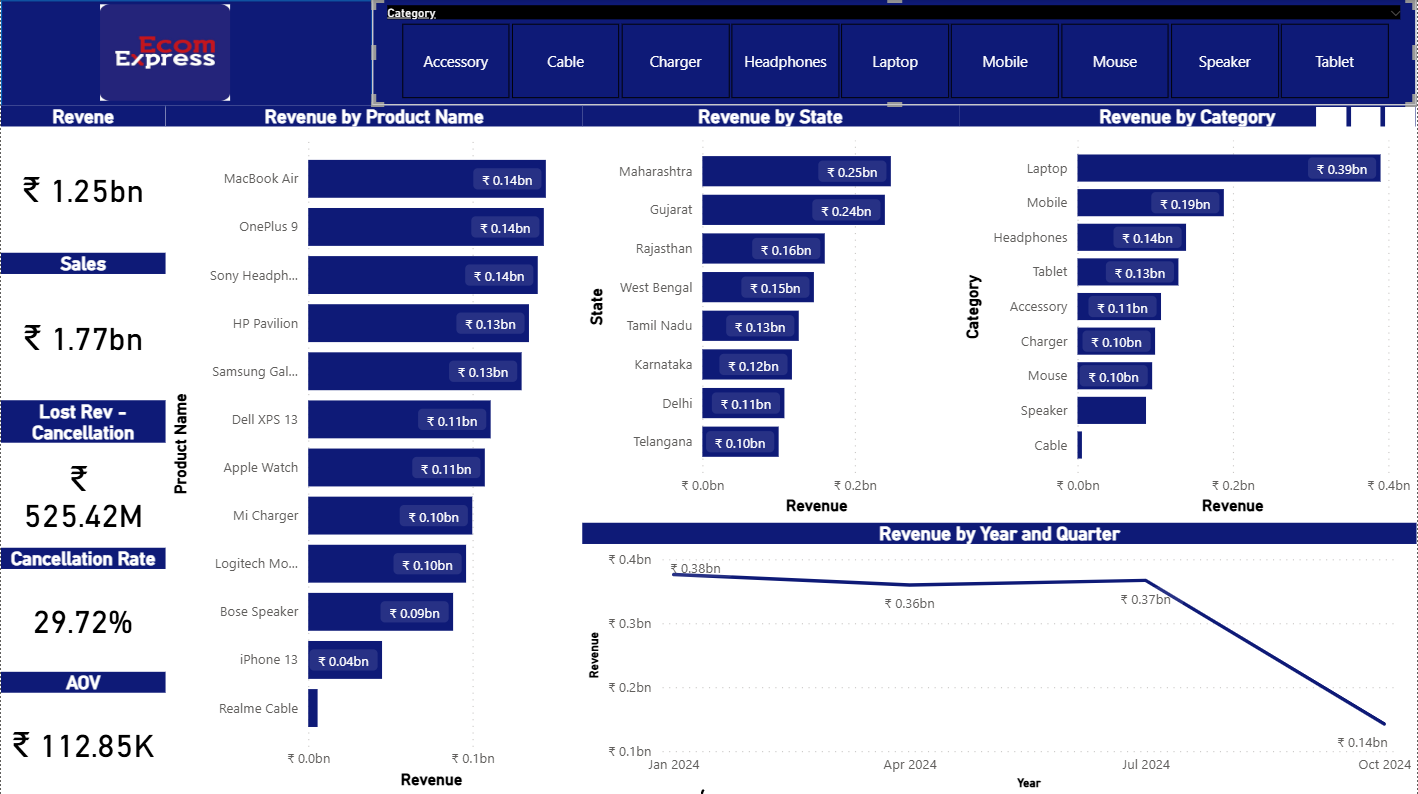

The dashboard page shown, as its layout file describes it:
{"tool":"powerbi","page":{"name":"Page 1","canvas":[1280,720],"ordinal":0},"visuals":[{"type":"shape","box":[0,1.2,336,96.5],"z":0},{"type":"barChart","fields":{"Y":["table.Revenue"],"Category":["Products.Product Name"]},"box":[148.8,96.5,376.7,623.1],"z":1000},{"type":"barChart","fields":{"Y":["table.Revenue"],"Category":["Products.Category"]},"box":[866.1,96.5,413.9,375.5],"z":2000},{"type":"lineChart","fields":{"Y":["table.Revenue"],"Category":["Orders.Date and time of purchase.Variation.Date Hierarchy.Year","Orders.Date and time of purchase.Variation.Date Hierarchy.Quarter","Orders.Date and time of purchase.Variation.Date Hierarchy.Month","Orders.Date and time of purchase.Variation.Date Hierarchy.Day"]},"box":[525.5,473.2,754.5,246.5],"z":3000},{"type":"barChart","fields":{"Y":["table.Revenue"],"Category":["Customers.State"]},"box":[525.5,96.5,340.6,375.5],"z":4000},{"type":"slicer","fields":{"Values":["Products.Category"]},"box":[336,0,944,96.5],"z":5000},{"type":"card","title":"Revene","fields":{"Values":["table.Revenue"]},"box":[0,96.5,148.8,132.5],"z":6000},{"type":"card","title":"Sales","fields":{"Values":["table.sales"]},"box":[0,229,148.8,133.7],"z":7000},{"type":"card","title":"Lost Rev - Cancellation","fields":{"Values":["table.lost_revenue_cancellation"]},"box":[0,362.7,148.8,133.7],"z":8000},{"type":"card","title":"AOV","fields":{"Values":["table.AOV"]},"box":[0,608,148.8,111.6],"z":9000},{"type":"card","title":"Cancellation Rate","fields":{"Values":["table.cancellation rate"]},"box":[0,496.4,148.8,111.6],"z":10000},{"type":"image","box":[0,0,98.8,97.7],"z":10001}]}

Visuals, with their boxes on the page's 1280x720 design canvas (x1, y1, x2, y2). These are canvas units, not pixel positions in the 1418x794 screenshot, which may show the page scaled, cropped or inside an application window:
shape: x1=0, y1=1, x2=336, y2=98
barChart - table.Revenue x Products.Product Name: x1=149, y1=96, x2=526, y2=720
barChart - table.Revenue x Products.Category: x1=866, y1=96, x2=1280, y2=472
lineChart - table.Revenue x Orders.Date and time of purchase.Variation.Date Hierarchy.Year: x1=526, y1=473, x2=1280, y2=720
barChart - table.Revenue x Customers.State: x1=526, y1=96, x2=866, y2=472
slicer - Products.Category: x1=336, y1=0, x2=1280, y2=96
"Revene" card: x1=0, y1=96, x2=149, y2=229
"Sales" card: x1=0, y1=229, x2=149, y2=363
"Lost Rev - Cancellation" card: x1=0, y1=363, x2=149, y2=496
"AOV" card: x1=0, y1=608, x2=149, y2=720
"Cancellation Rate" card: x1=0, y1=496, x2=149, y2=608
image: x1=0, y1=0, x2=99, y2=98
